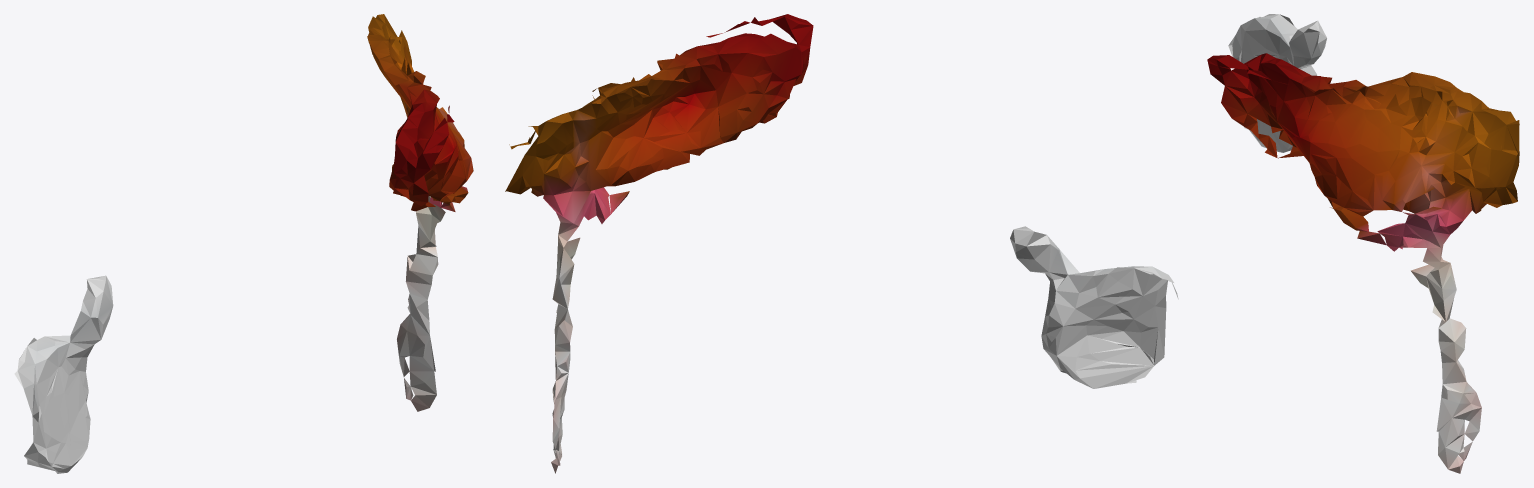
The model's file is prep_run__fridge_side_drawer_3.scan.glb.
The picture shows the model from 3 angles, left to right: view 1: azimuth 30°, elevation 25°; view 2: azimuth 150°, elevation 25°; view 3: azimuth 270°, elevation 25°; orthographic projection. The views are drawn at different scales.
Visible parts, largest first — view 1: geometry_0; view 2: geometry_0; view 3: geometry_0.
Boxes of the visible parts, x1,y1,x2,y2 form: geometry_0: [14, 14, 473, 473]; geometry_0: [505, 14, 1178, 473]; geometry_0: [1207, 14, 1519, 473].
Bounding box in the file's own units: 0.4792 × 0.3421 × 0.2605.
